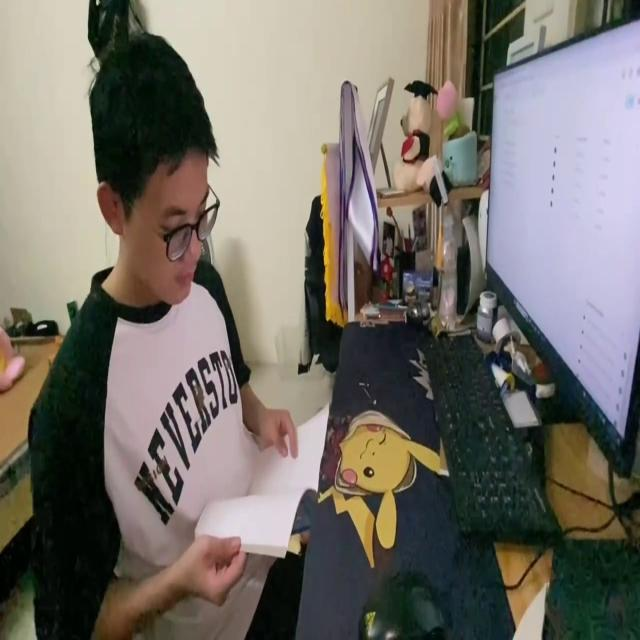book: (193, 400, 329, 572)
laptop: (481, 10, 640, 482)
student: (26, 28, 307, 640)
